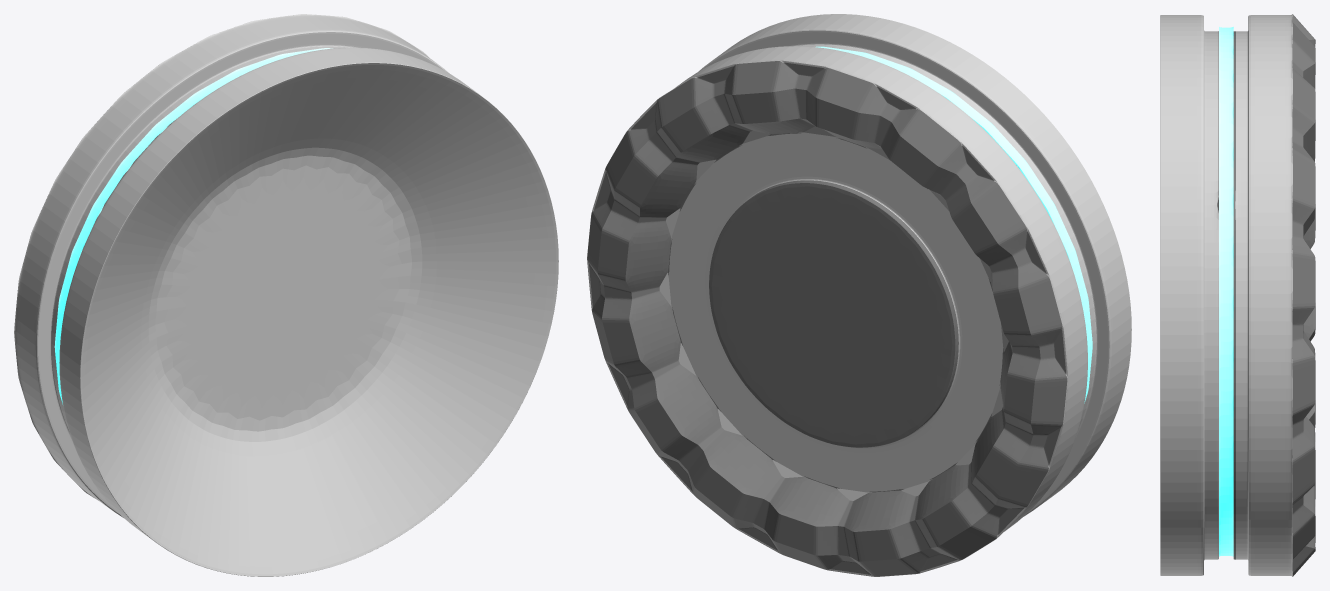
File: Aimer and shooter.fbx
3 views of the same model, side by side, from view 1: azimuth 30°, elevation 25°; view 2: azimuth 150°, elevation 25°; view 3: azimuth 270°, elevation 25° (orthographic).
Parts seen in each view (by area): view 1: Base; view 2: Base; view 3: Base.
Part boxes in pixels (box(x1,y1,x2,y2)): Base: box(14, 14, 558, 576); Base: box(587, 14, 1131, 576); Base: box(1160, 14, 1315, 576).
Bounding box in the file's own units: 200 × 200 × 54.94.
